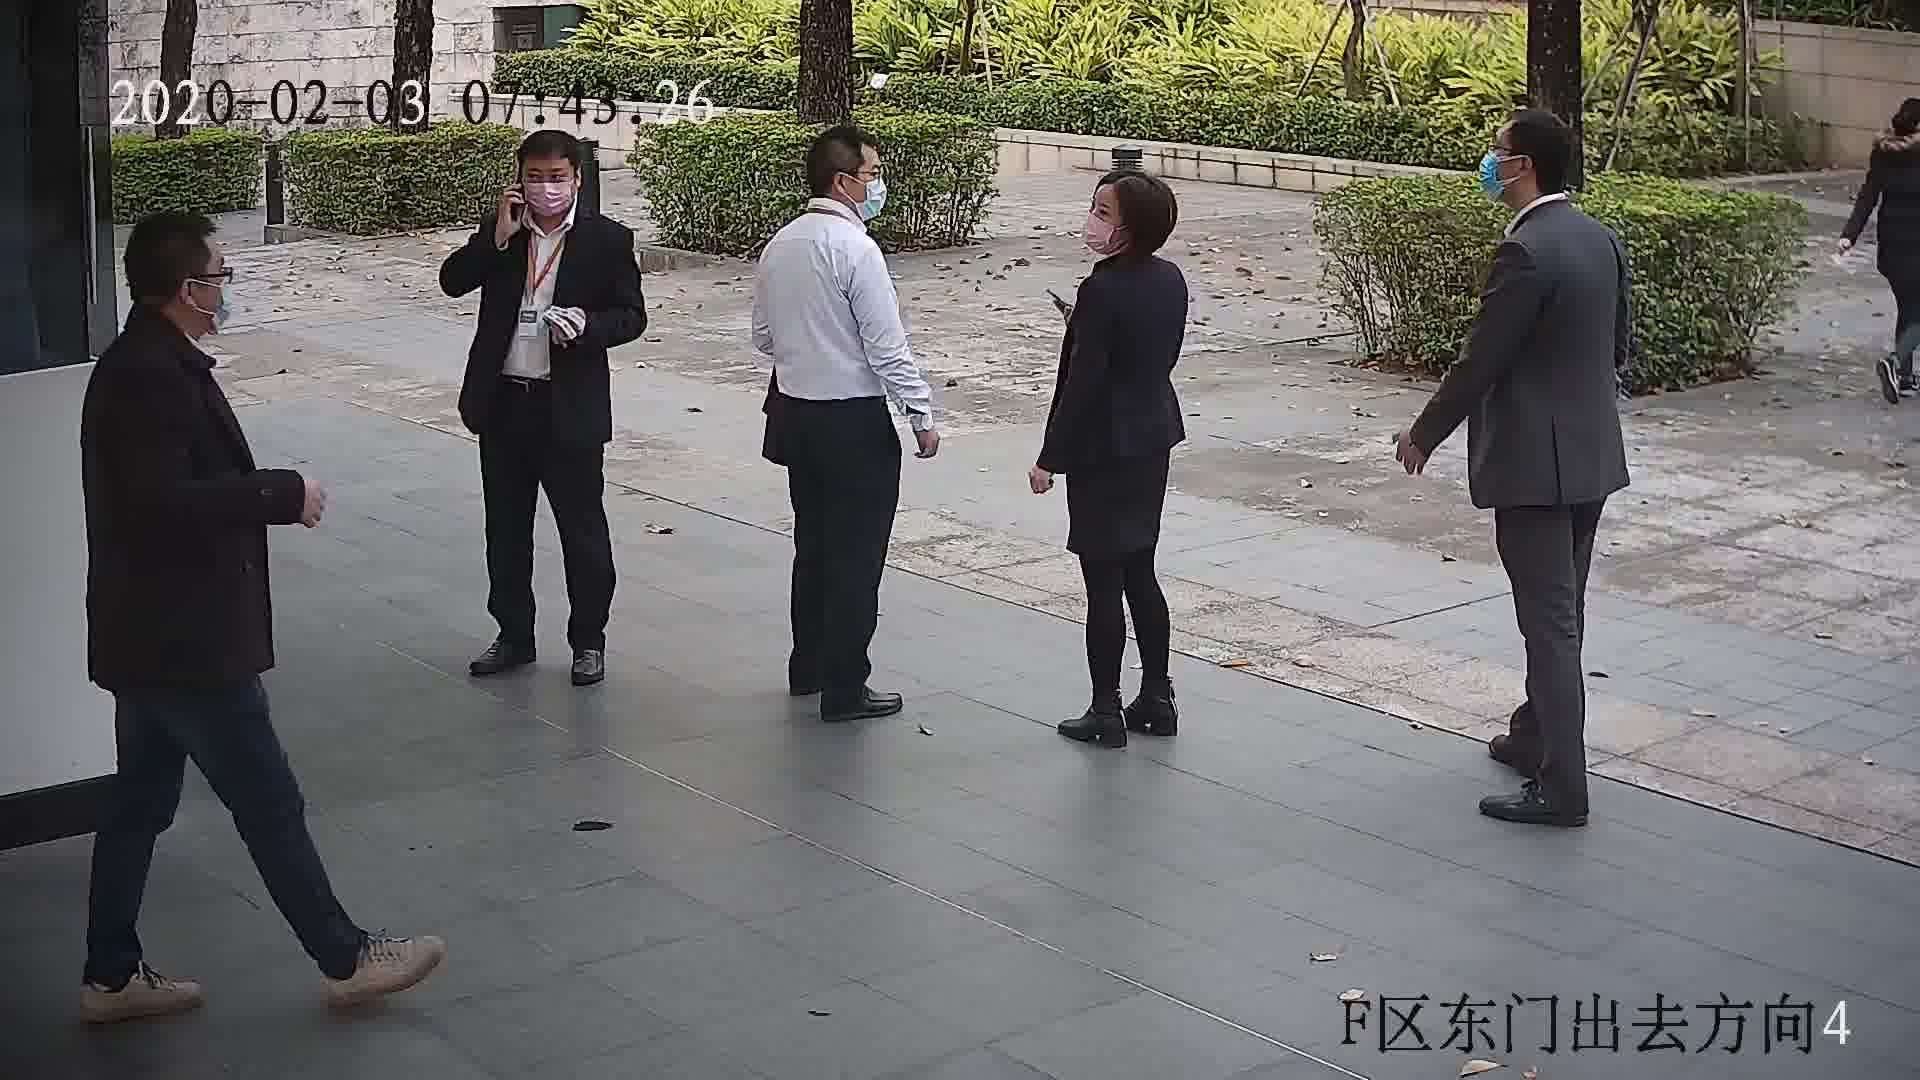face: (165, 251, 242, 327), (511, 150, 581, 219), (844, 138, 890, 214), (1084, 177, 1125, 260)
mask: (520, 179, 575, 213), (1078, 210, 1118, 256), (205, 274, 235, 334), (1475, 148, 1507, 199), (857, 176, 887, 225)
person: (84, 212, 236, 418), (472, 131, 636, 260), (1485, 111, 1620, 267), (764, 127, 892, 269), (1073, 171, 1190, 303), (1870, 89, 1920, 168)
